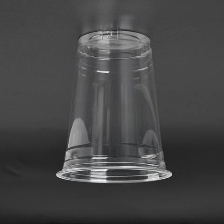glass: (55, 27, 172, 184)
